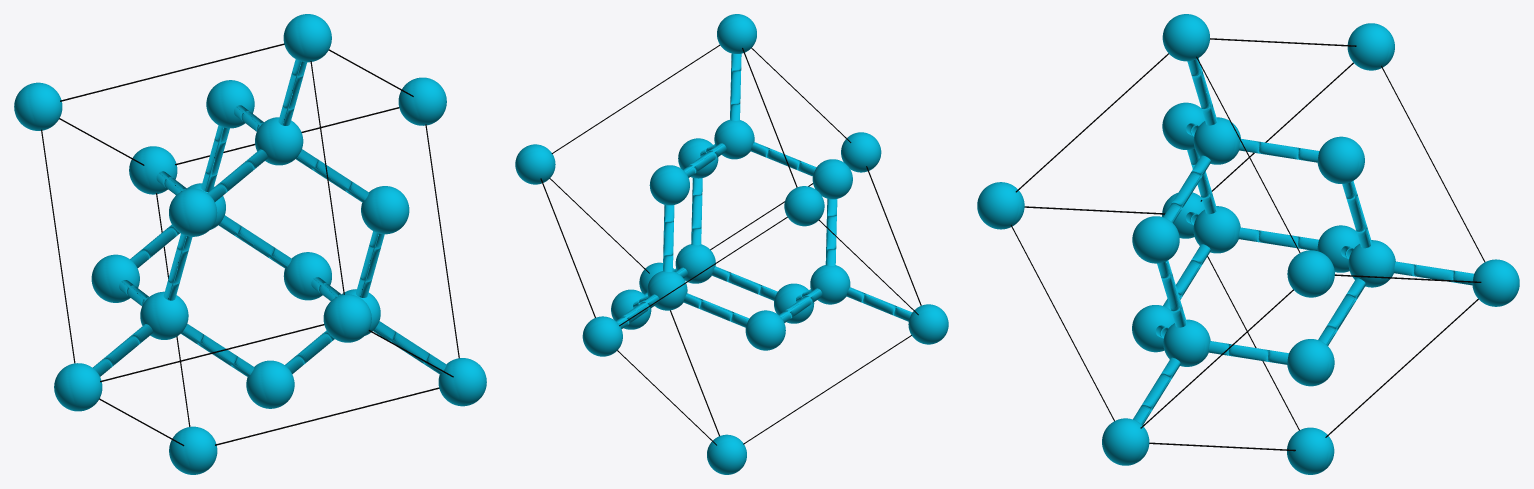
3 renders of one model, left to right at view 1: azimuth 30°, elevation 25°; view 2: azimuth 150°, elevation 25°; view 3: azimuth 270°, elevation 25°, orthographic. The views are drawn at different scales.
Visible parts, largest first — view 1: UnitCellSegment_0; view 2: UnitCellSegment_0; view 3: UnitCellSegment_0.
Part boxes in pixels (x1,y1,x2,y2): UnitCellSegment_0: (14, 14, 486, 474); UnitCellSegment_0: (515, 14, 948, 474); UnitCellSegment_0: (977, 14, 1519, 474).
Size of the model in its own units: 0.9549 by 0.9938 by 1.02.
